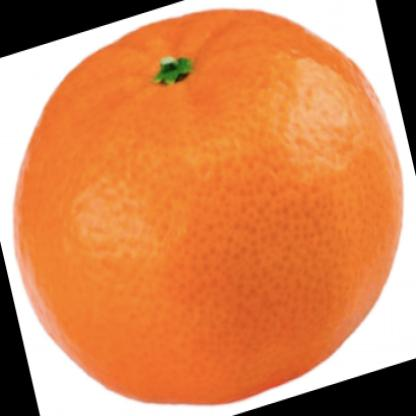orange: (11, 8, 400, 405)
